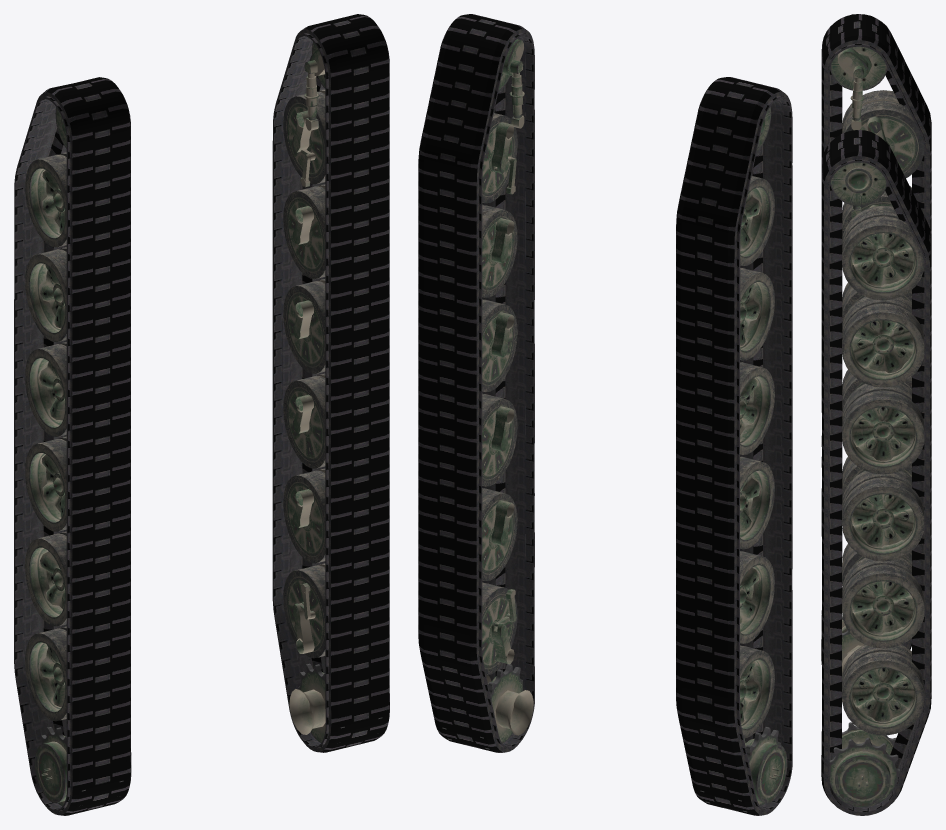
The model's file is Chassis.glb.
3 renders of one model, left to right at view 1: azimuth 30°, elevation 25°; view 2: azimuth 150°, elevation 25°; view 3: azimuth 270°, elevation 25°, orthographic. The views are drawn at different scales.
Visible parts, largest first — view 1: set_1_group_0, set_0_group_0, set_3_group_0, set_2_group_0; view 2: set_1_group_0, set_0_group_0, set_3_group_0, set_2_group_0; view 3: set_3_group_0, set_0_group_0, set_2_group_0, set_1_group_0.
Part boxes in pixels (box(x1,y1,x2,y2)): set_1_group_0: box(14, 77, 131, 815); set_0_group_0: box(272, 14, 389, 752); set_3_group_0: box(283, 42, 382, 742); set_2_group_0: box(25, 107, 123, 806); set_1_group_0: box(676, 77, 792, 815); set_0_group_0: box(418, 14, 534, 752); set_3_group_0: box(442, 39, 533, 749); set_2_group_0: box(700, 106, 787, 812); set_3_group_0: box(829, 162, 924, 807); set_0_group_0: box(821, 130, 931, 815); set_2_group_0: box(830, 46, 924, 678); set_1_group_0: box(821, 14, 931, 664).
Size of the model in its own units: 3.47 by 7.22 by 1.08.
4 materials, 4 textured.
